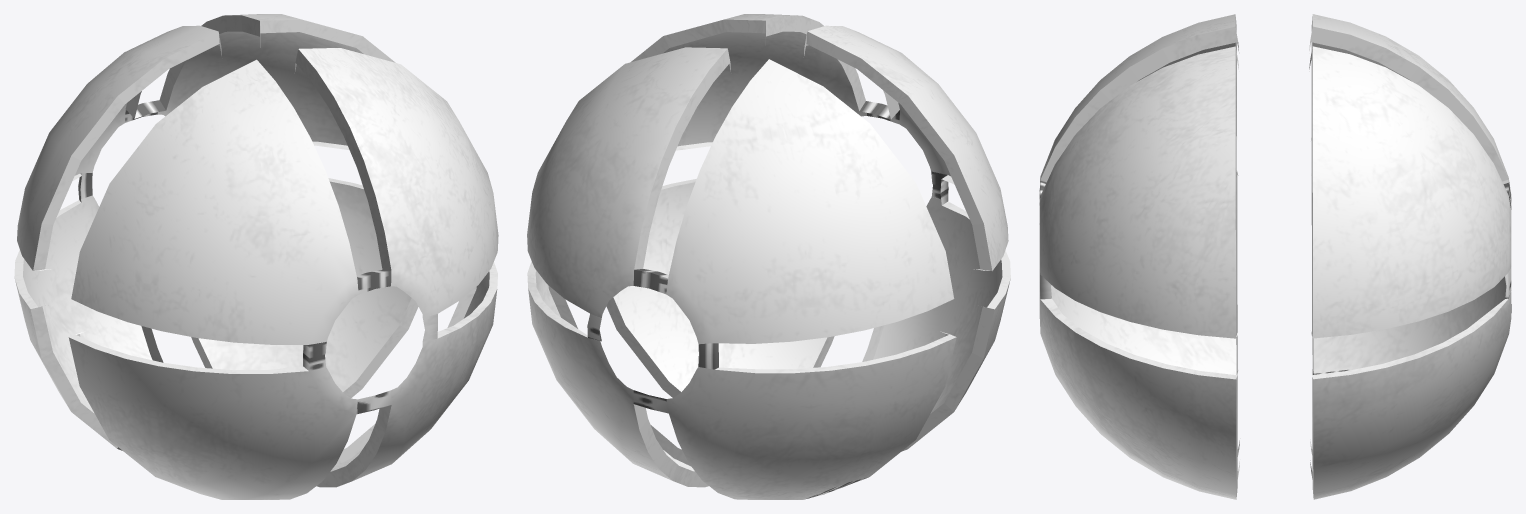
Rendered from Ball2.fbx.
3 views of the same model, side by side, from view 1: azimuth 30°, elevation 25°; view 2: azimuth 150°, elevation 25°; view 3: azimuth 270°, elevation 25° (orthographic).
Parts seen in each view (by area): view 1: polySurface6; view 2: polySurface6; view 3: polySurface6.
Part boxes in pixels (<box>): polySurface6: <box>14,14,498,499</box>; polySurface6: <box>527,14,1010,499</box>; polySurface6: <box>1039,14,1511,499</box>.
Size of what is drawn, in the model's own units: 27.87 by 28.01 by 27.26.
Materials: 2 (1 with a texture image).
